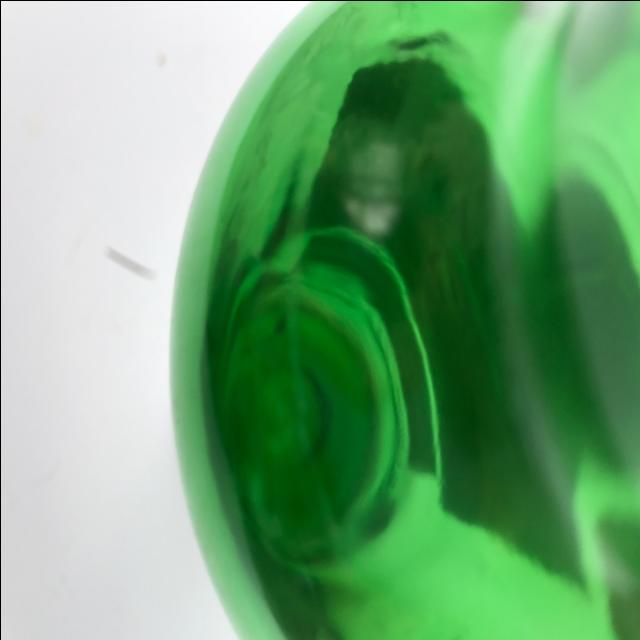glass: (168, 0, 638, 640)
